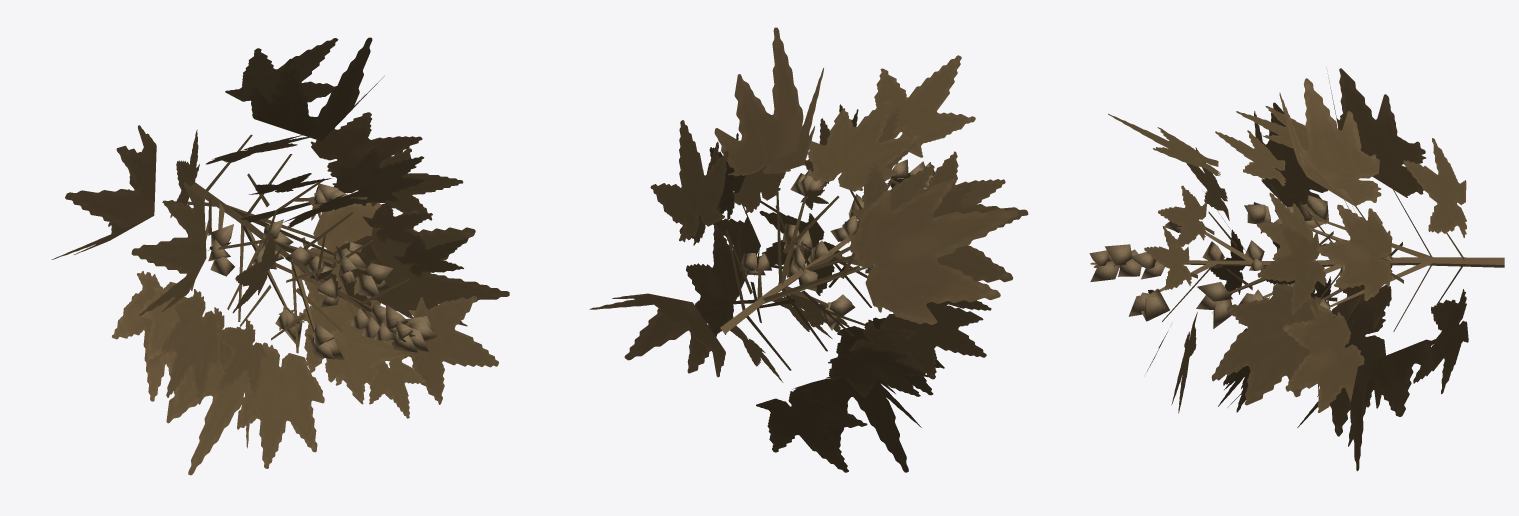
File: p_male_kush_ripe_c3_cards.obj
The picture shows the model from 3 angles, left to right: view 1: azimuth 30°, elevation 25°; view 2: azimuth 150°, elevation 25°; view 3: azimuth 270°, elevation 25°; orthographic projection. The views are drawn at different scales.
Bounding box in the file's own units: 1.81 × 1.67 × 1.38.
1 material, 1 textured.
